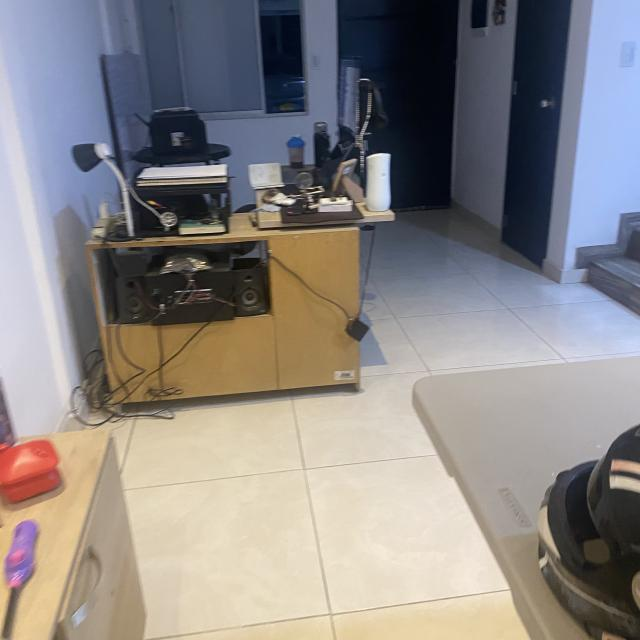obstacle: (80, 97, 418, 433), (0, 402, 174, 640)
